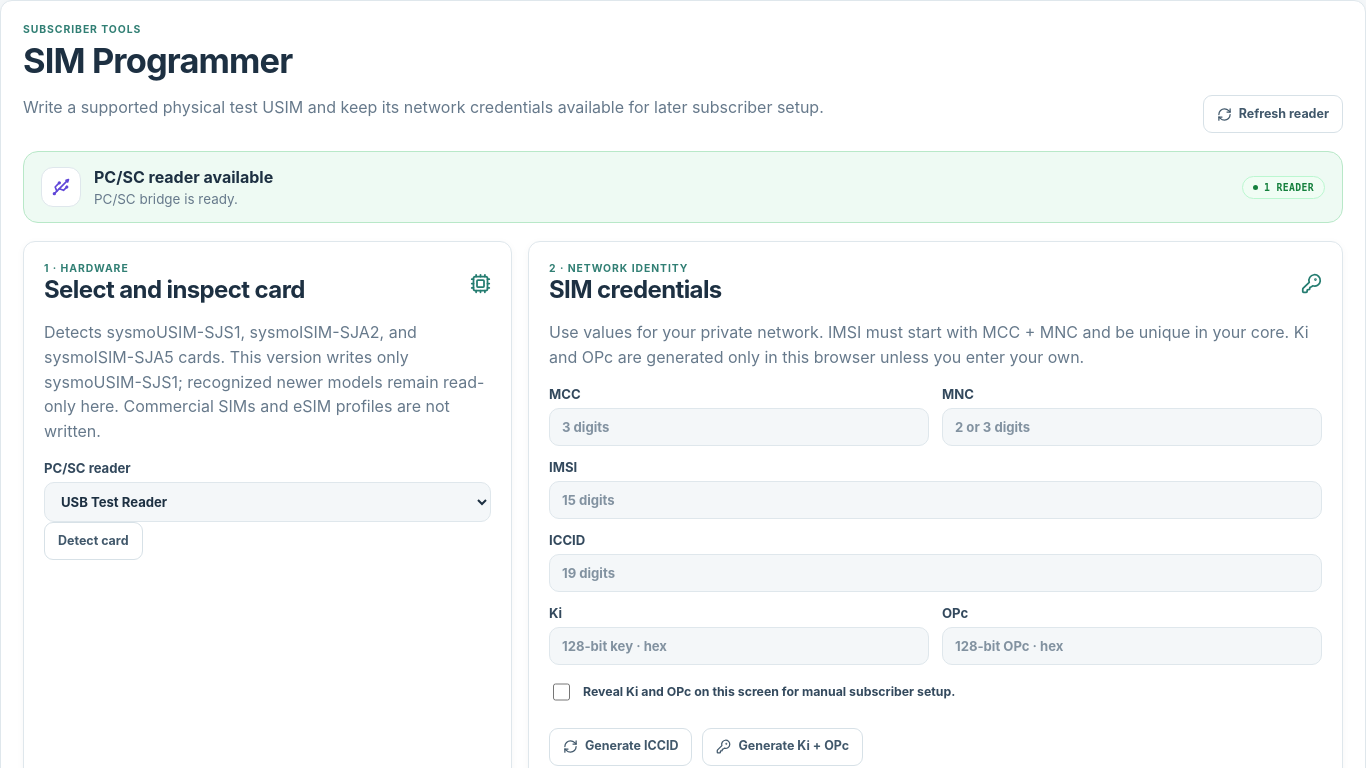
Test: Physical SIM programmer page › keeps recognized SJA5 cards read-only
The image size is (1366, 768).
Click the button "Detect card".
click(93, 541)  # box [44,522,142,560]
(page scrolled)
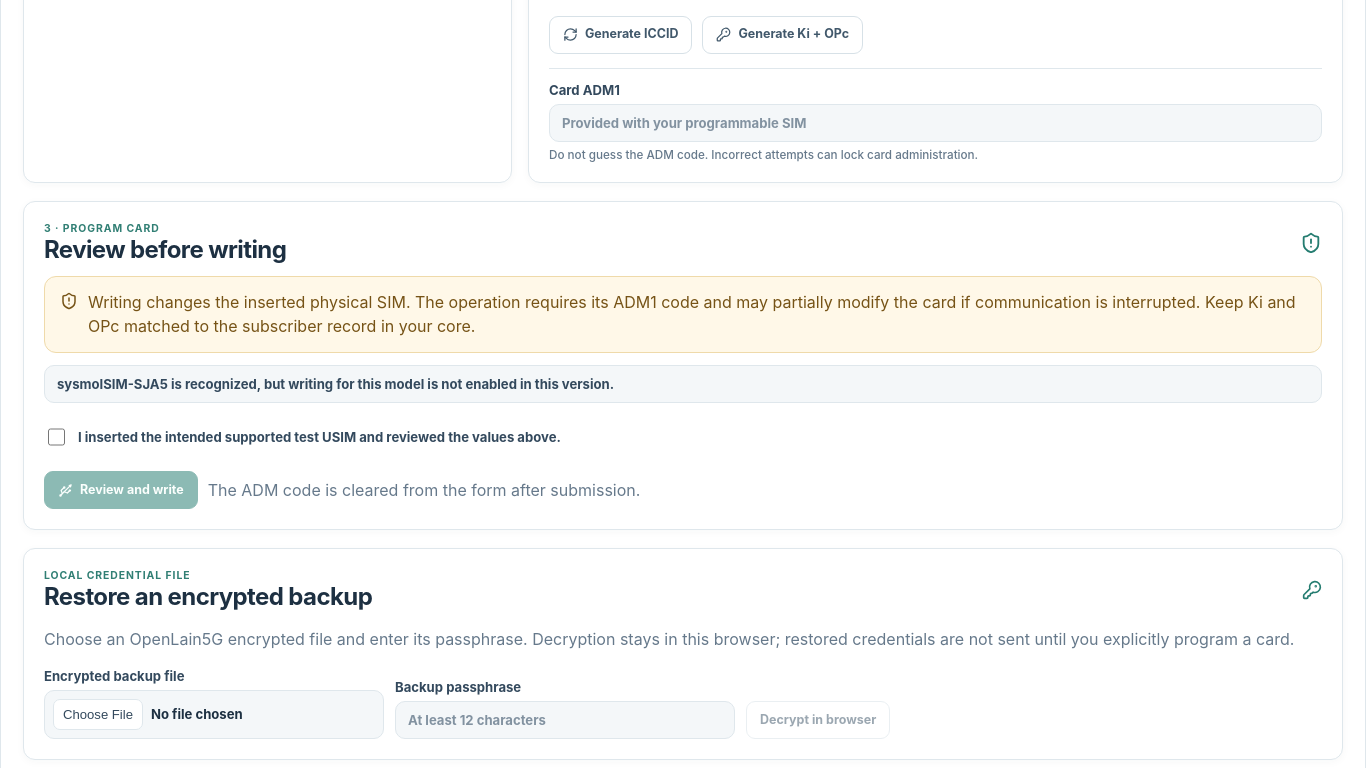
expect the button "Review and write" is disabled: met, box [44,471,198,509]
expect the text "writing for this model is not enabled" is shown: met, box [57,376,614,392]
